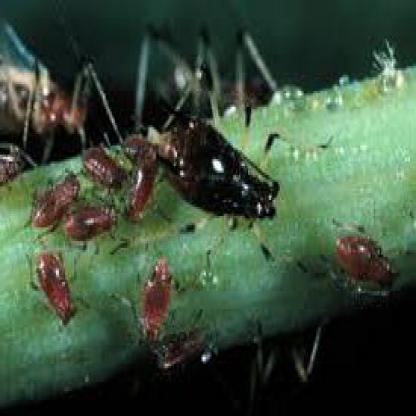uroleucon compositae: (157, 66, 284, 264)
